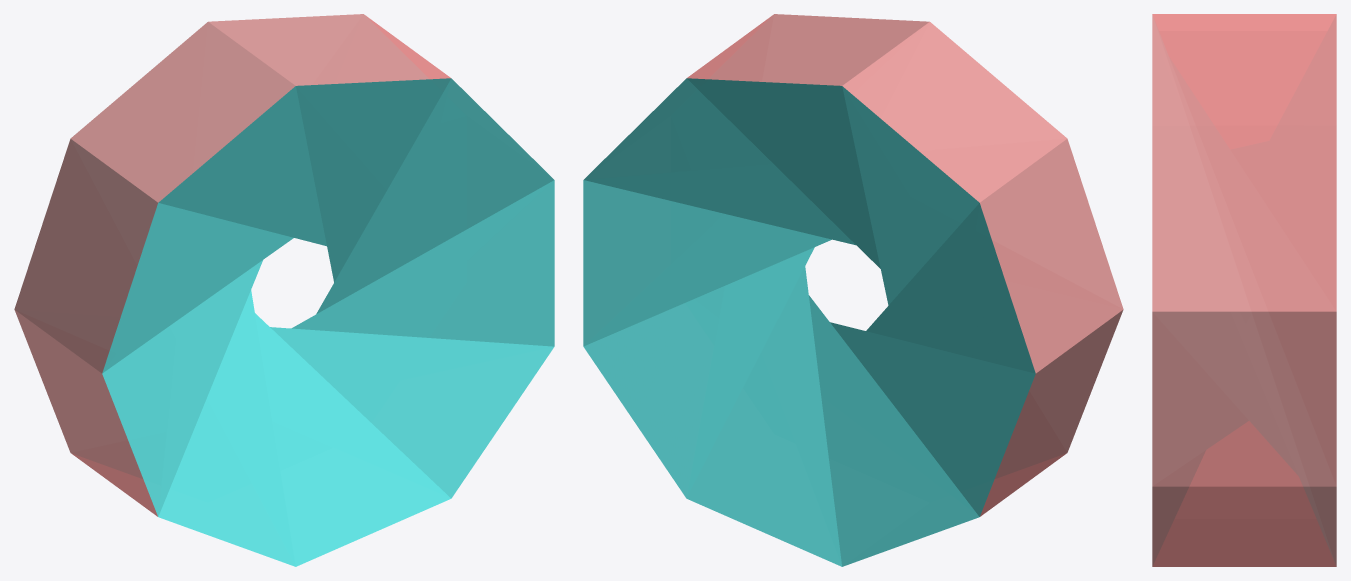
Rendered from EnneagonalIrisToroid3.obj.
3 renders of one model, left to right at view 1: azimuth 30°, elevation 25°; view 2: azimuth 150°, elevation 25°; view 3: azimuth 270°, elevation 25°, orthographic. The views are drawn at different scales.
Bounding box in the file's own units: 2.5 × 2.54 × 0.84.
